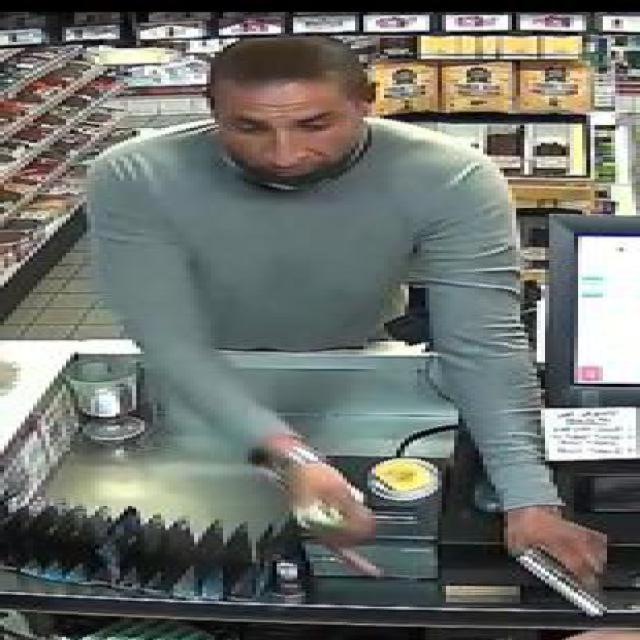weapon: (512, 541, 608, 620)
